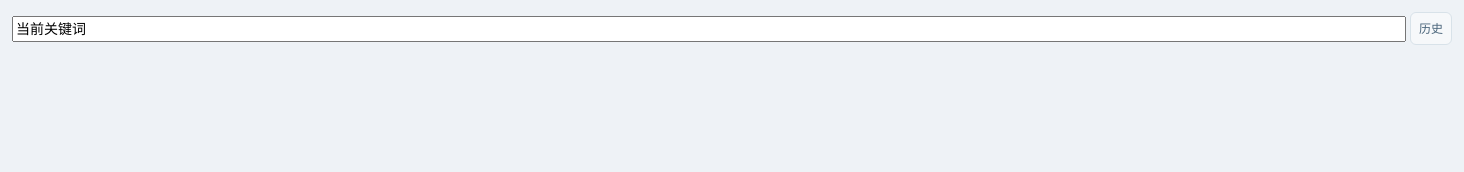
Test case: SearchKeywordInput › shows an empty state and lets the mouse choose a history keyword
Later steps or results of the test are not shown.
Click the button with aria-label "包含关键词 1的历史记录". click: click(1431, 29)
box: left=1410, top=12, right=1452, bottom=45
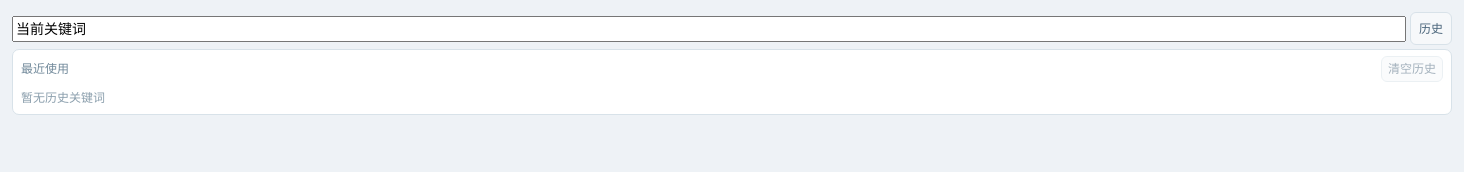
Check: the text "暂无历史关键词" is shown, box left=21, top=90, right=105, bottom=105
